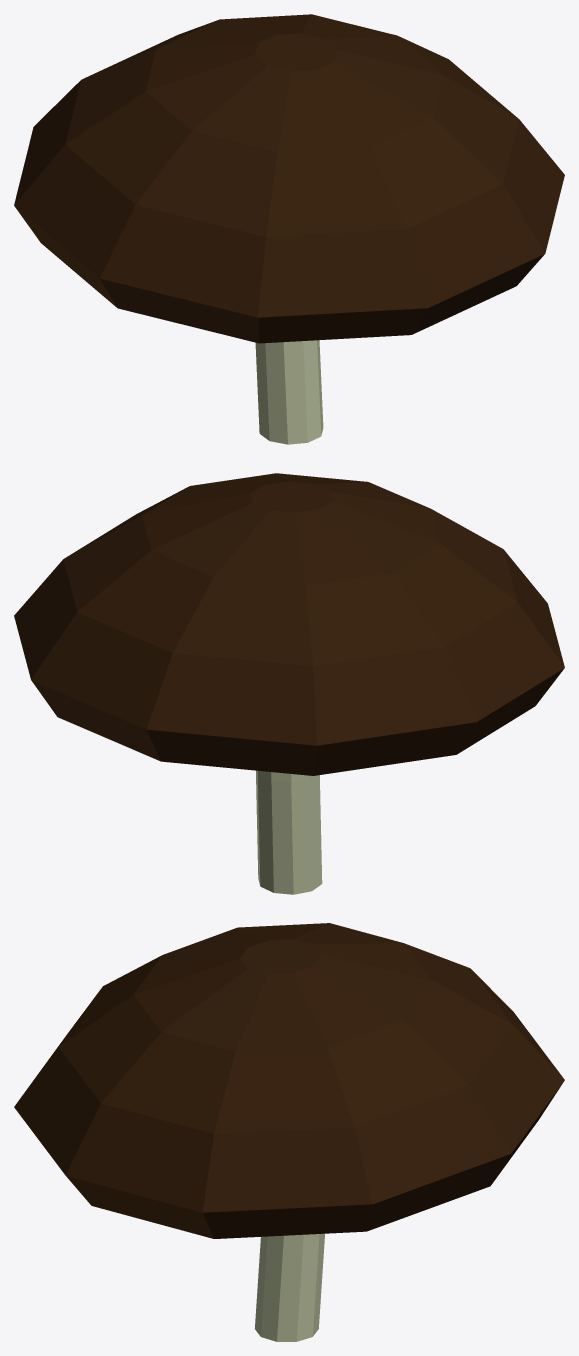
3 views of the same model, one above another, from view 1: azimuth 30°, elevation 25°; view 2: azimuth 150°, elevation 25°; view 3: azimuth 270°, elevation 25° (orthographic). The views are drawn at different scales.
Visible parts, largest first — view 1: Mushroom2_Cylinder.021; view 2: Mushroom2_Cylinder.021; view 3: Mushroom2_Cylinder.021.
Part boxes in pixels (bbox=[...]): Mushroom2_Cylinder.021: bbox=[14, 14, 564, 444]; Mushroom2_Cylinder.021: bbox=[14, 473, 564, 894]; Mushroom2_Cylinder.021: bbox=[14, 923, 564, 1341].
Size of the model in its own units: 3.54 by 2.79 by 3.71.
1 material, 1 textured.
